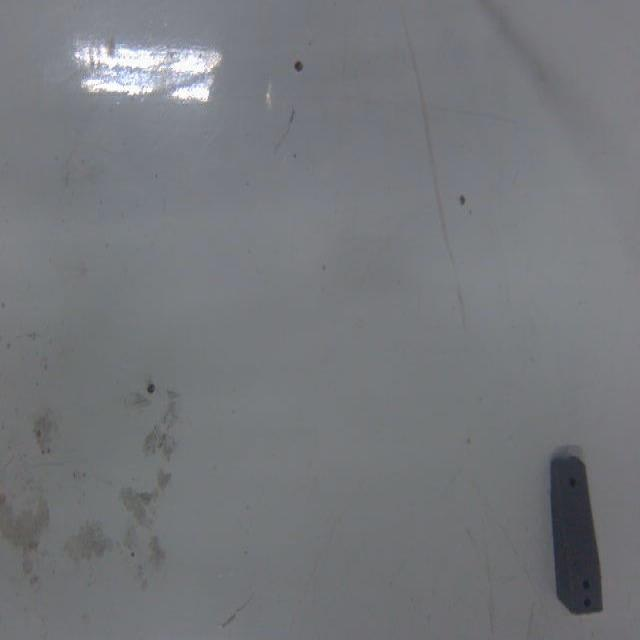grey: (546, 450, 606, 616)
head: (564, 471, 582, 497)
